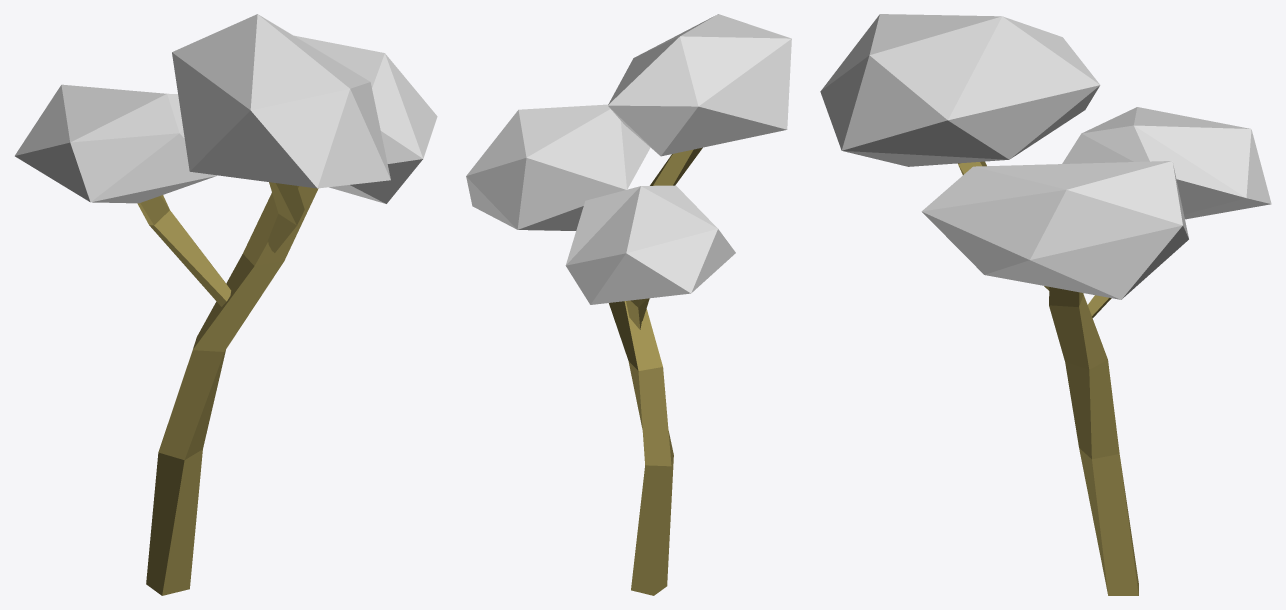
The model's file is Tree_Winter_5.fbx.
3 views of the same model, side by side, from view 1: azimuth 30°, elevation 25°; view 2: azimuth 150°, elevation 25°; view 3: azimuth 270°, elevation 25° (orthographic). The views are drawn at different scales.
Visible parts, largest first — view 1: Leaves, Leaves.001, Trunk, Leaves.002, Trunk.001, Trunk.002; view 2: Leaves, Leaves.002, Leaves.001, Trunk, Trunk.002, Trunk.001; view 3: Leaves, Leaves.002, Leaves.001, Trunk.
Boxes of the visible parts, box(x1,y1,x2,y2) form: Leaves: box(172, 14, 390, 188); Leaves.001: box(15, 84, 217, 203); Trunk: box(146, 186, 318, 595); Leaves.002: box(294, 35, 437, 203); Trunk.001: box(137, 195, 231, 306); Trunk.002: box(267, 182, 304, 252); Leaves: box(608, 14, 791, 156); Leaves.002: box(466, 104, 650, 230); Leaves.001: box(565, 185, 735, 304); Trunk: box(609, 301, 673, 595); Trunk.002: box(650, 147, 702, 185); Trunk.001: box(626, 298, 649, 329); Leaves: box(820, 14, 1100, 166); Leaves.002: box(921, 161, 1188, 299); Leaves.001: box(1062, 107, 1271, 219); Trunk: box(1049, 287, 1138, 595).
Bounding box in the file's own units: 217 × 395 × 276.
